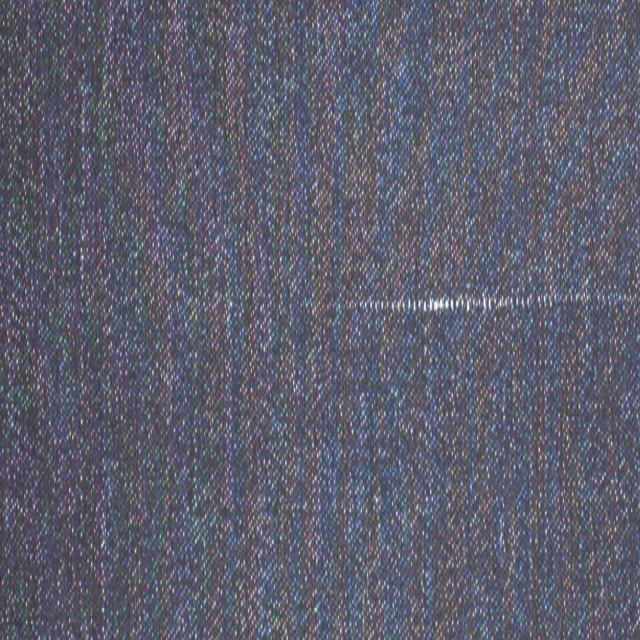Line: (312, 293, 640, 314)
